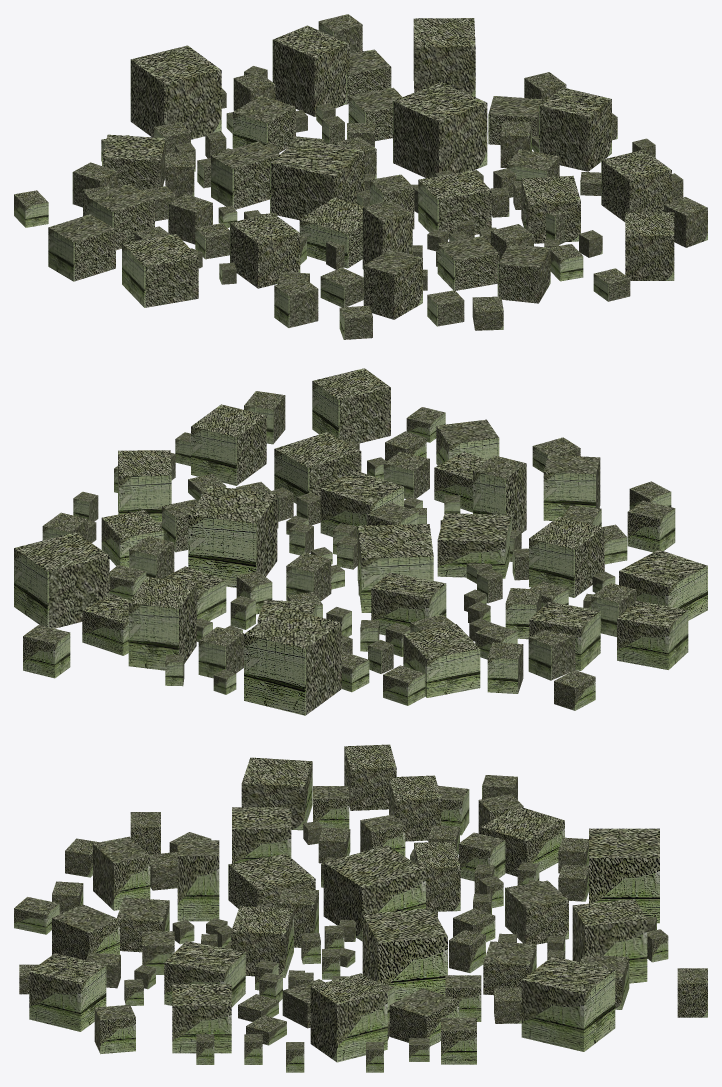
File: city.gltf
3 views of the same model, one above another, from view 1: azimuth 30°, elevation 25°; view 2: azimuth 150°, elevation 25°; view 3: azimuth 270°, elevation 25° (orthographic). The views are drawn at different scales.
Parts seen in each view (by area): view 1: Cube 4, Cube 5, Cube, Cube 2, Cube 9, Cube 94, Cube 7, Cube 8, Cube 12, Cube 106, Cube 154, Cube 11 (+41 smaller); view 2: Cube 5, Cube 4, Cube 7, Cube 2, Cube 12, Cube 54, Cube 8, Cube, Cube 102, Cube 154, Cube 90, Cube 94 (+50 smaller); view 3: Cube 7, Cube 4, Cube, Cube 9, Cube 5, Cube 54, Cube 2, Cube 12, Cube 94, Cube 102, Cube 106, Cube 60 (+51 smaller).
Part boxes in pixels (x1=…): Cube 4: x1=393, y1=82, x2=487, y2=178; Cube 5: x1=130, y1=45, x2=221, y2=139; Cube: x1=270, y1=137, x2=364, y2=220; Cube 2: x1=272, y1=25, x2=349, y2=116; Cube 9: x1=539, y1=87, x2=611, y2=171; Cube 94: x1=122, y1=234, x2=198, y2=307; Cube 7: x1=413, y1=18, x2=475, y2=97; Cube 8: x1=230, y1=212, x2=300, y2=288; Cube 12: x1=601, y1=149, x2=671, y2=221; Cube 106: x1=418, y1=170, x2=491, y2=239; Cube 154: x1=48, y1=214, x2=115, y2=281; Cube 11: x1=363, y1=248, x2=422, y2=319; Cube 5: x1=244, y1=607, x2=341, y2=715; Cube 4: x1=188, y1=485, x2=277, y2=587; Cube 7: x1=14, y1=532, x2=109, y2=628; Cube 2: x1=128, y1=576, x2=196, y2=670; Cube 12: x1=191, y1=404, x2=266, y2=485; Cube 54: x1=312, y1=368, x2=390, y2=443; Cube 8: x1=529, y1=516, x2=604, y2=597; Cube: x1=357, y1=524, x2=433, y2=612; Cube 102: x1=403, y1=624, x2=480, y2=697; Cube 154: x1=617, y1=600, x2=688, y2=669; Cube 90: x1=437, y1=513, x2=511, y2=578; Cube 94: x1=619, y1=549, x2=707, y2=620; Cube 7: x1=521, y1=956, x2=615, y2=1051; Cube 4: x1=362, y1=908, x2=447, y2=1001; Cube: x1=323, y1=845, x2=425, y2=941; Cube 9: x1=310, y1=973, x2=387, y2=1062; Cube 5: x1=589, y1=828, x2=659, y2=923; Cube 54: x1=29, y1=953, x2=106, y2=1031; Cube 2: x1=572, y1=898, x2=647, y2=983; Cube 12: x1=172, y1=984, x2=231, y2=1053; Cube 94: x1=241, y1=757, x2=312, y2=830; Cube 102: x1=480, y1=806, x2=564, y2=876; Cube 106: x1=231, y1=905, x2=293, y2=977; Cube 60: x1=177, y1=840, x2=219, y2=921.
Bounding box in the file's own units: 0.3135 × 0.0334 × 0.3208.
1 material, 1 textured.
